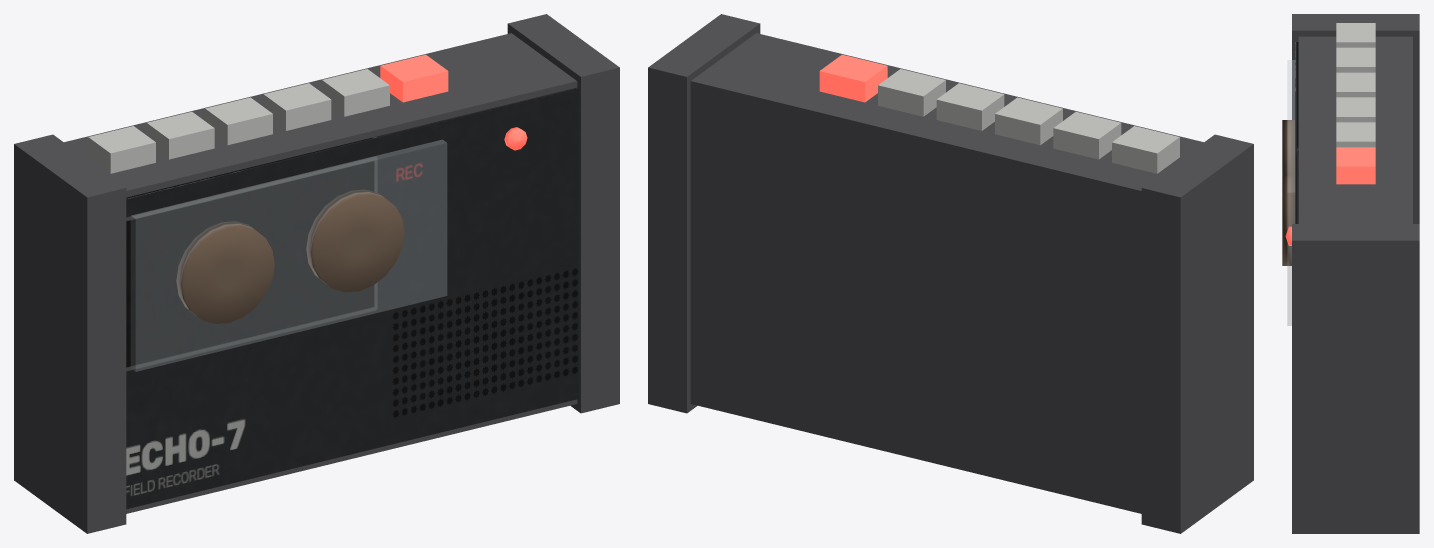
The model's file is ep-tape-recorder.glb.
3 views of the same model, side by side, from view 1: azimuth 30°, elevation 25°; view 2: azimuth 150°, elevation 25°; view 3: azimuth 270°, elevation 25° (orthographic). The views are drawn at different scales.
Visible parts, largest first — view 1: TapeRecorder; view 2: TapeRecorder; view 3: TapeRecorder.
Boxes of the visible parts, <box> form: TapeRecorder: <box>14,14,619,533</box>; TapeRecorder: <box>648,14,1253,533</box>; TapeRecorder: <box>1282,14,1419,533</box>.
Bounding box in the file's own units: 0.164 × 0.103 × 0.042.
6 materials, 1 textured.
